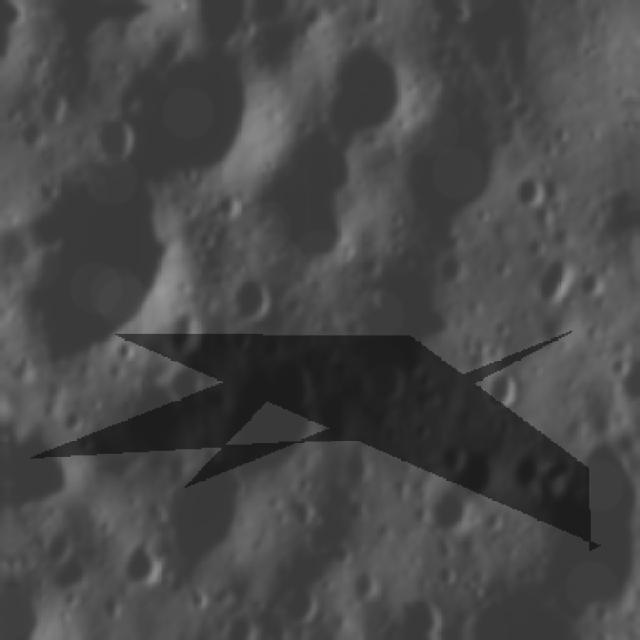crater: (0, 154, 194, 380), (114, 33, 269, 195), (385, 90, 527, 221), (310, 32, 436, 156), (150, 452, 270, 580), (226, 346, 334, 477), (5, 412, 94, 523), (84, 104, 142, 176), (353, 349, 413, 413), (530, 248, 585, 314), (116, 532, 170, 598), (424, 488, 485, 544), (222, 272, 275, 328), (481, 360, 530, 418), (163, 357, 212, 408), (499, 445, 543, 498), (505, 169, 553, 214), (342, 566, 387, 608), (32, 88, 74, 130), (208, 186, 250, 228), (433, 436, 473, 479), (429, 558, 465, 591)
